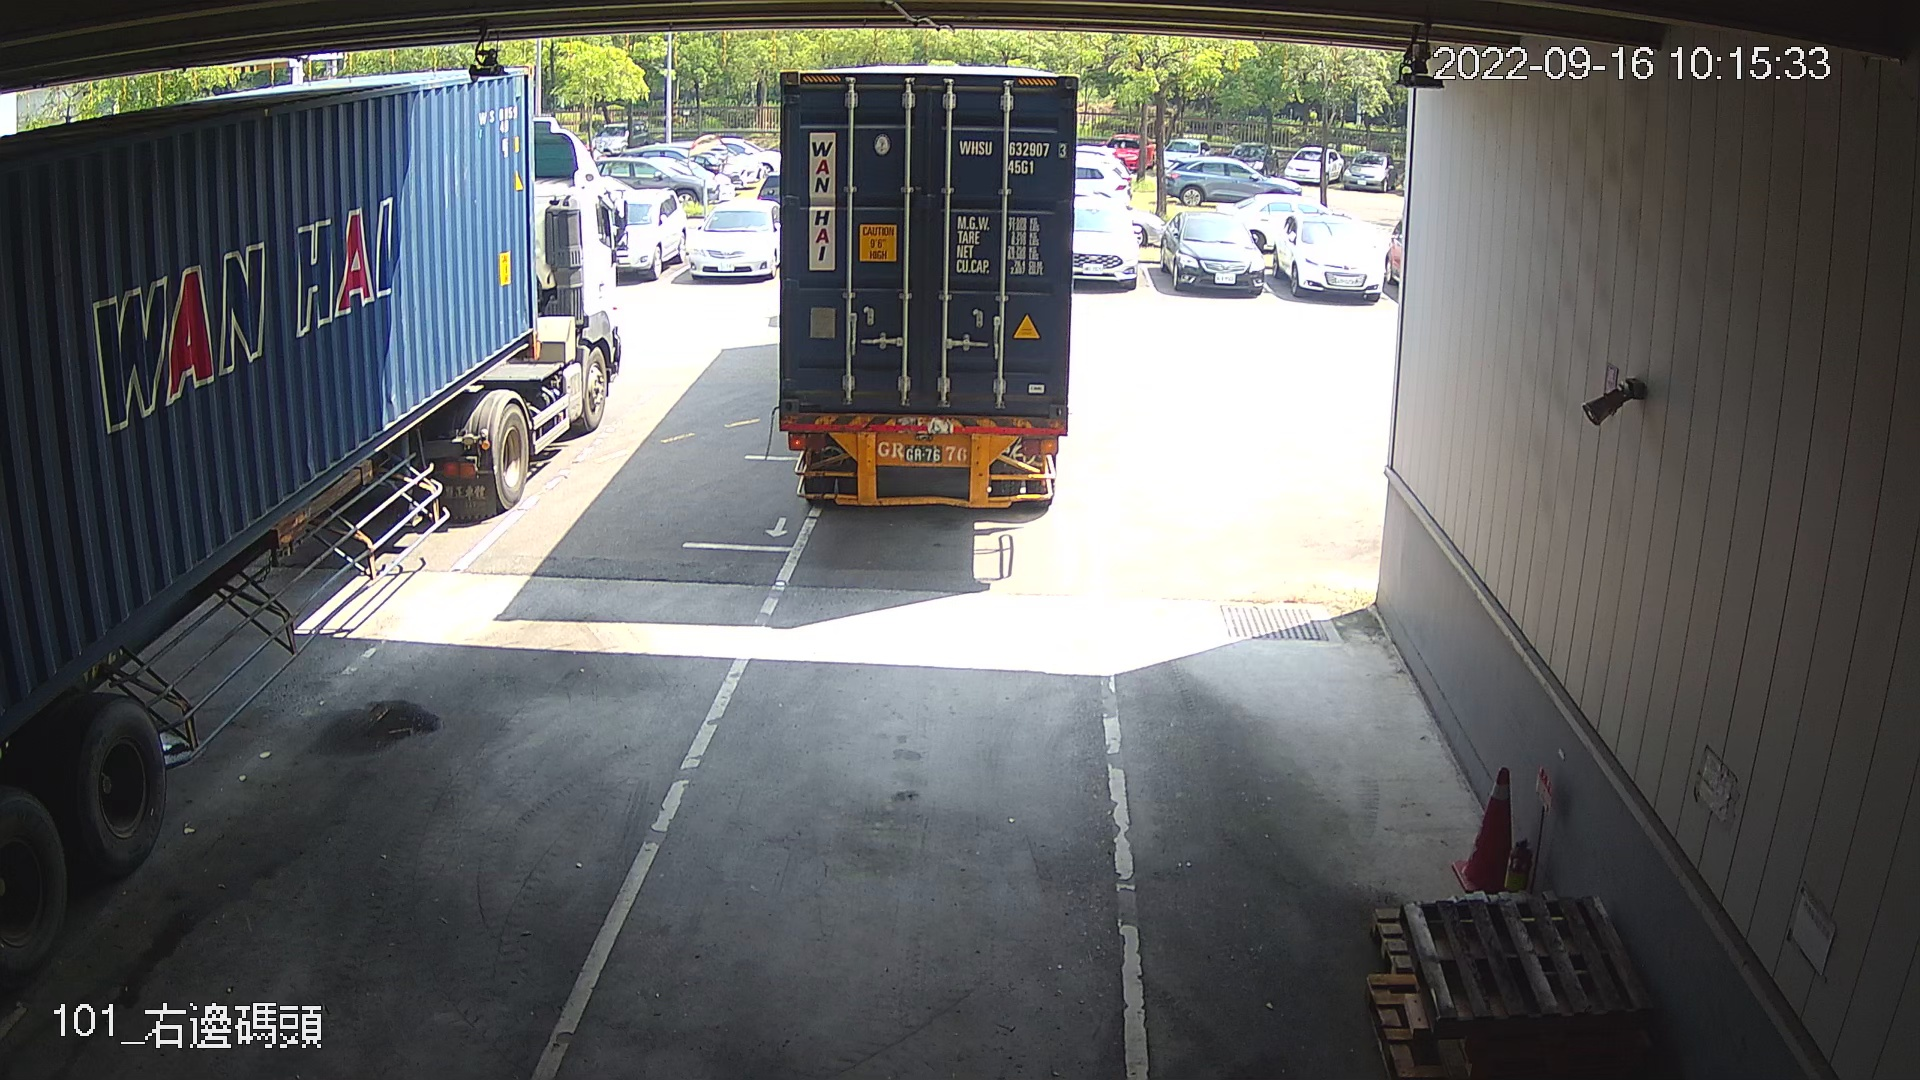container: (953, 135, 1072, 179)
